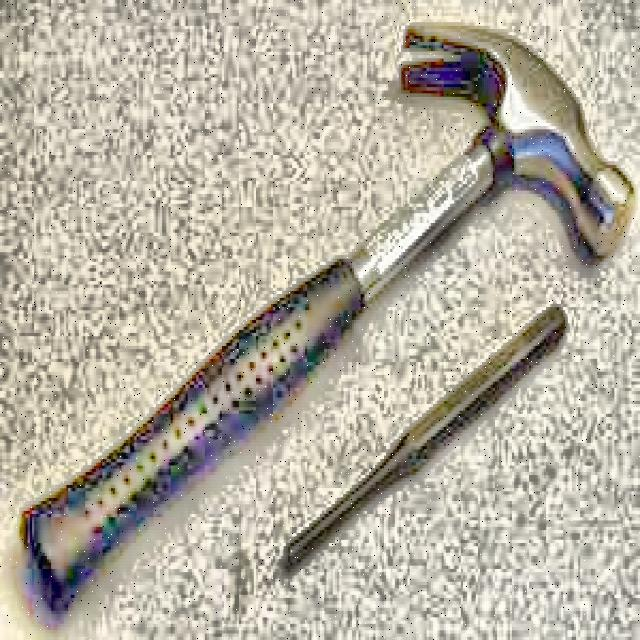hammer: (18, 18, 636, 606)
